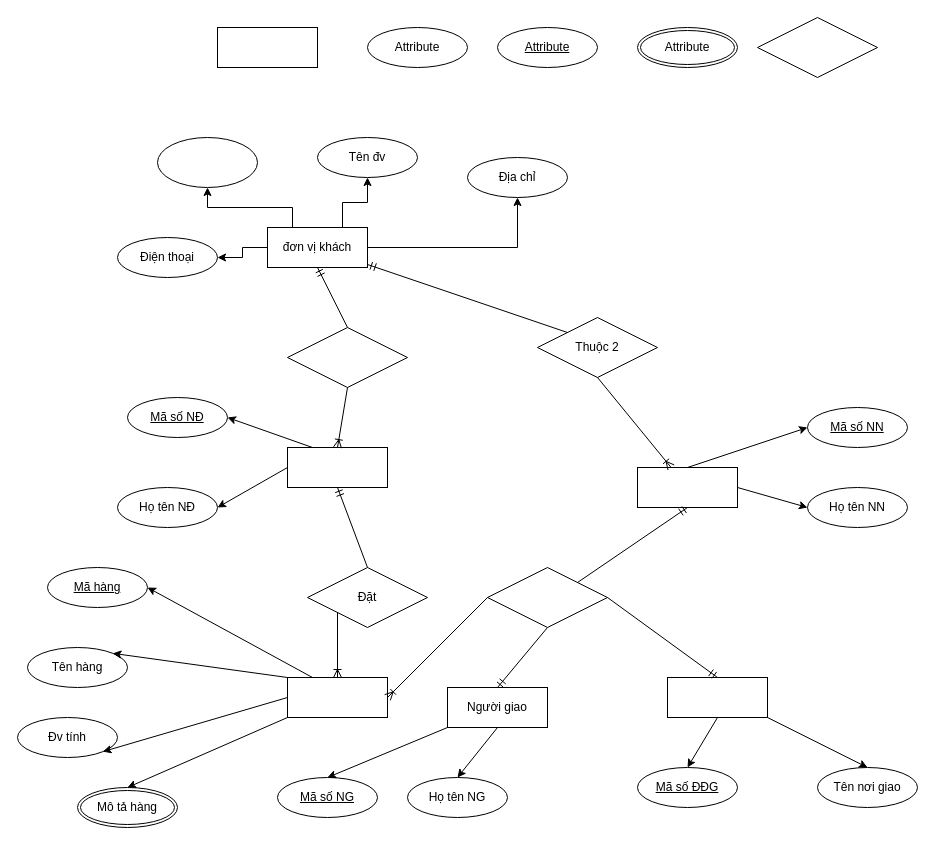
Image size: 935x845. Some labels were removed from this diagram. Each missing label, with the box of its shape:
Entity: (216, 26, 318, 68)
Giao: (486, 566, 608, 628)
Hàng: (286, 676, 388, 718)
Mã đv: (156, 136, 258, 188)
Người Nhận: (636, 466, 738, 508)
Người đặt: (286, 446, 388, 488)
Nơi giao: (666, 676, 768, 718)
Relationship: (756, 16, 878, 78)
Thuộc 1: (286, 326, 408, 388)
